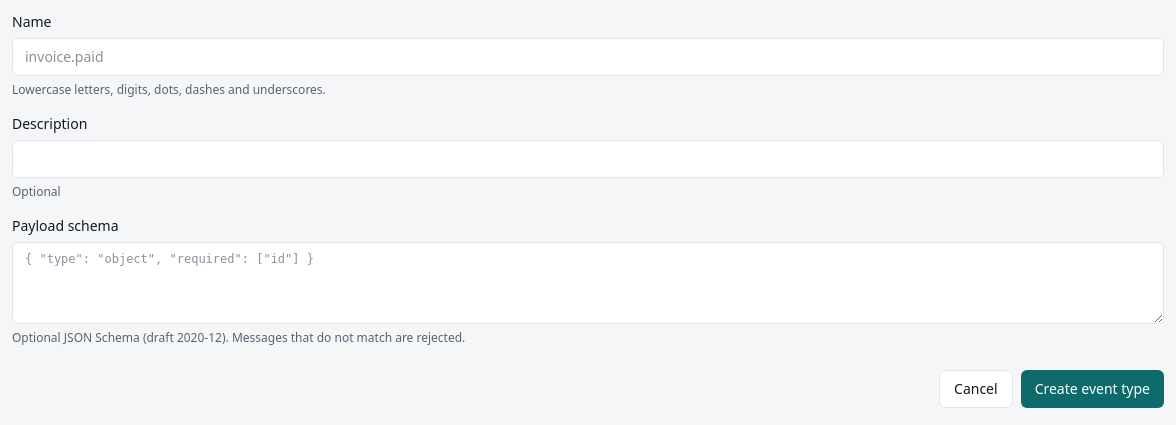
Scenario: EventTypeForm › refuses the reserved platform prefix
Type "solmira.custom" into the field labelled "Name". click: [588, 57]
box: 12,38 -> 1164,76
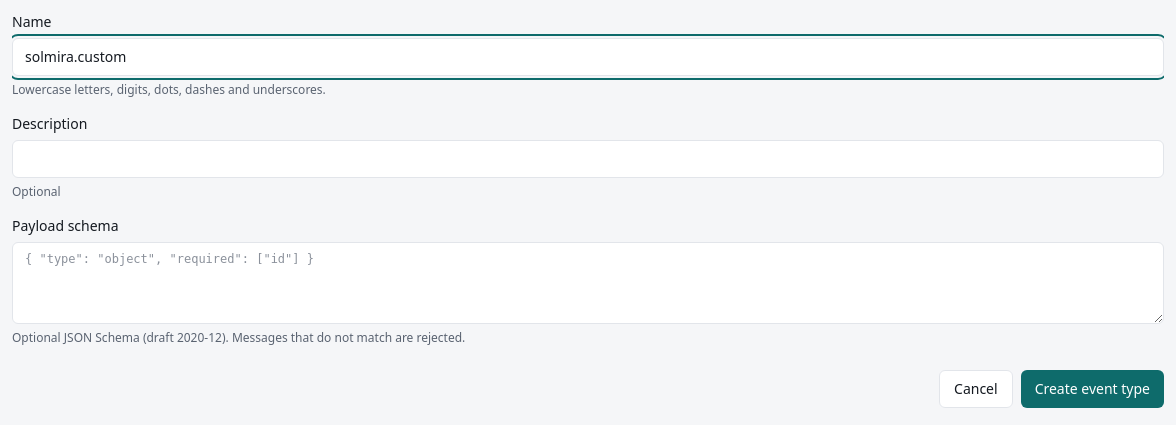
Click the button "Create event type". click: [1092, 389]
box: 1021,370 -> 1164,408
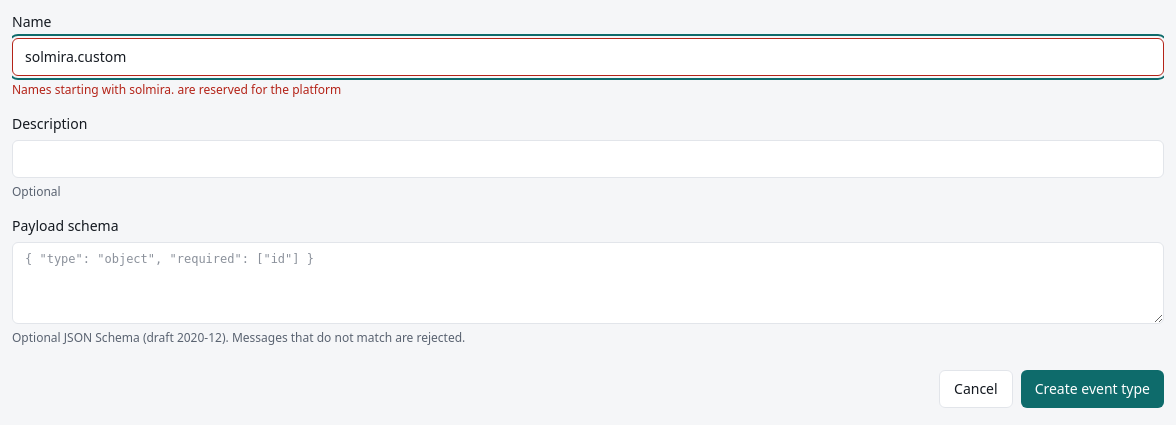
Check: the text "Names starting with solmira. are reserved for the platform" is shown, box 12,81 -> 341,98
